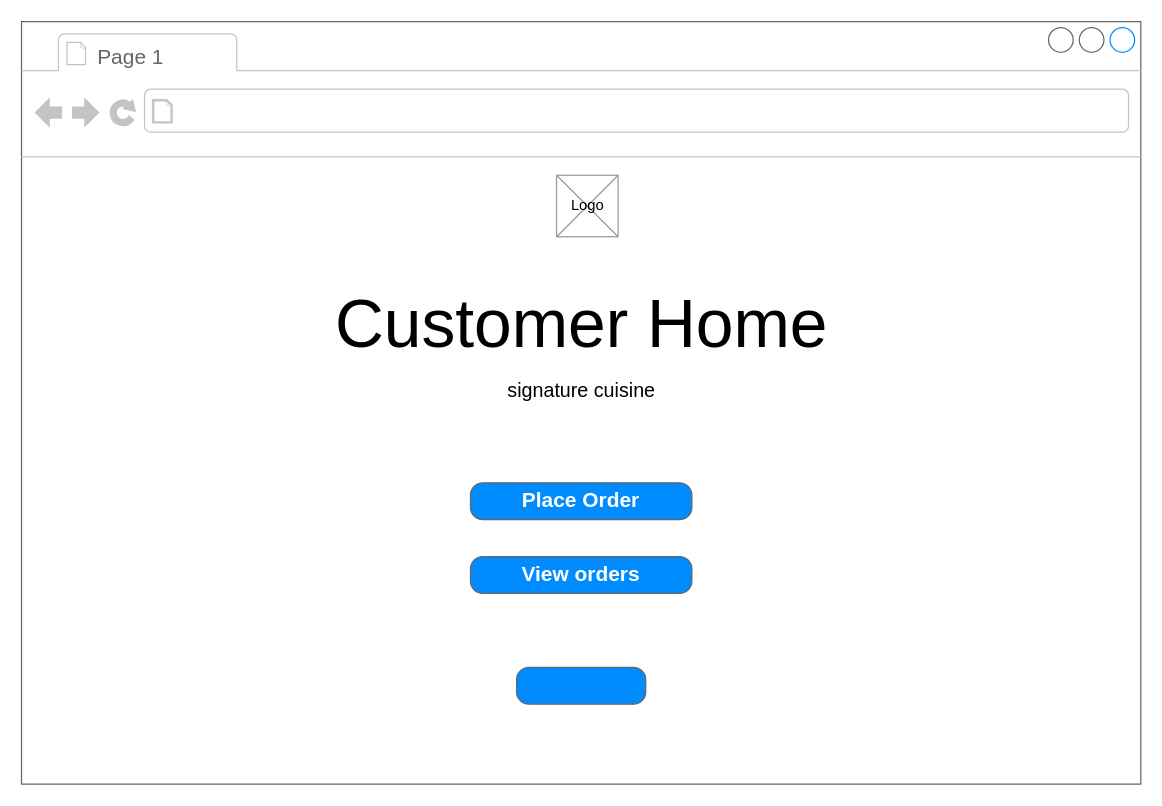
This 1162x806 diagram has some shape labels left out. Here are the shapes that lost their labels. From the top down, the box of each, then its label:
(180, 100, 489, 133): https://www.Customer_home.html
(515, 666, 646, 704): Back
